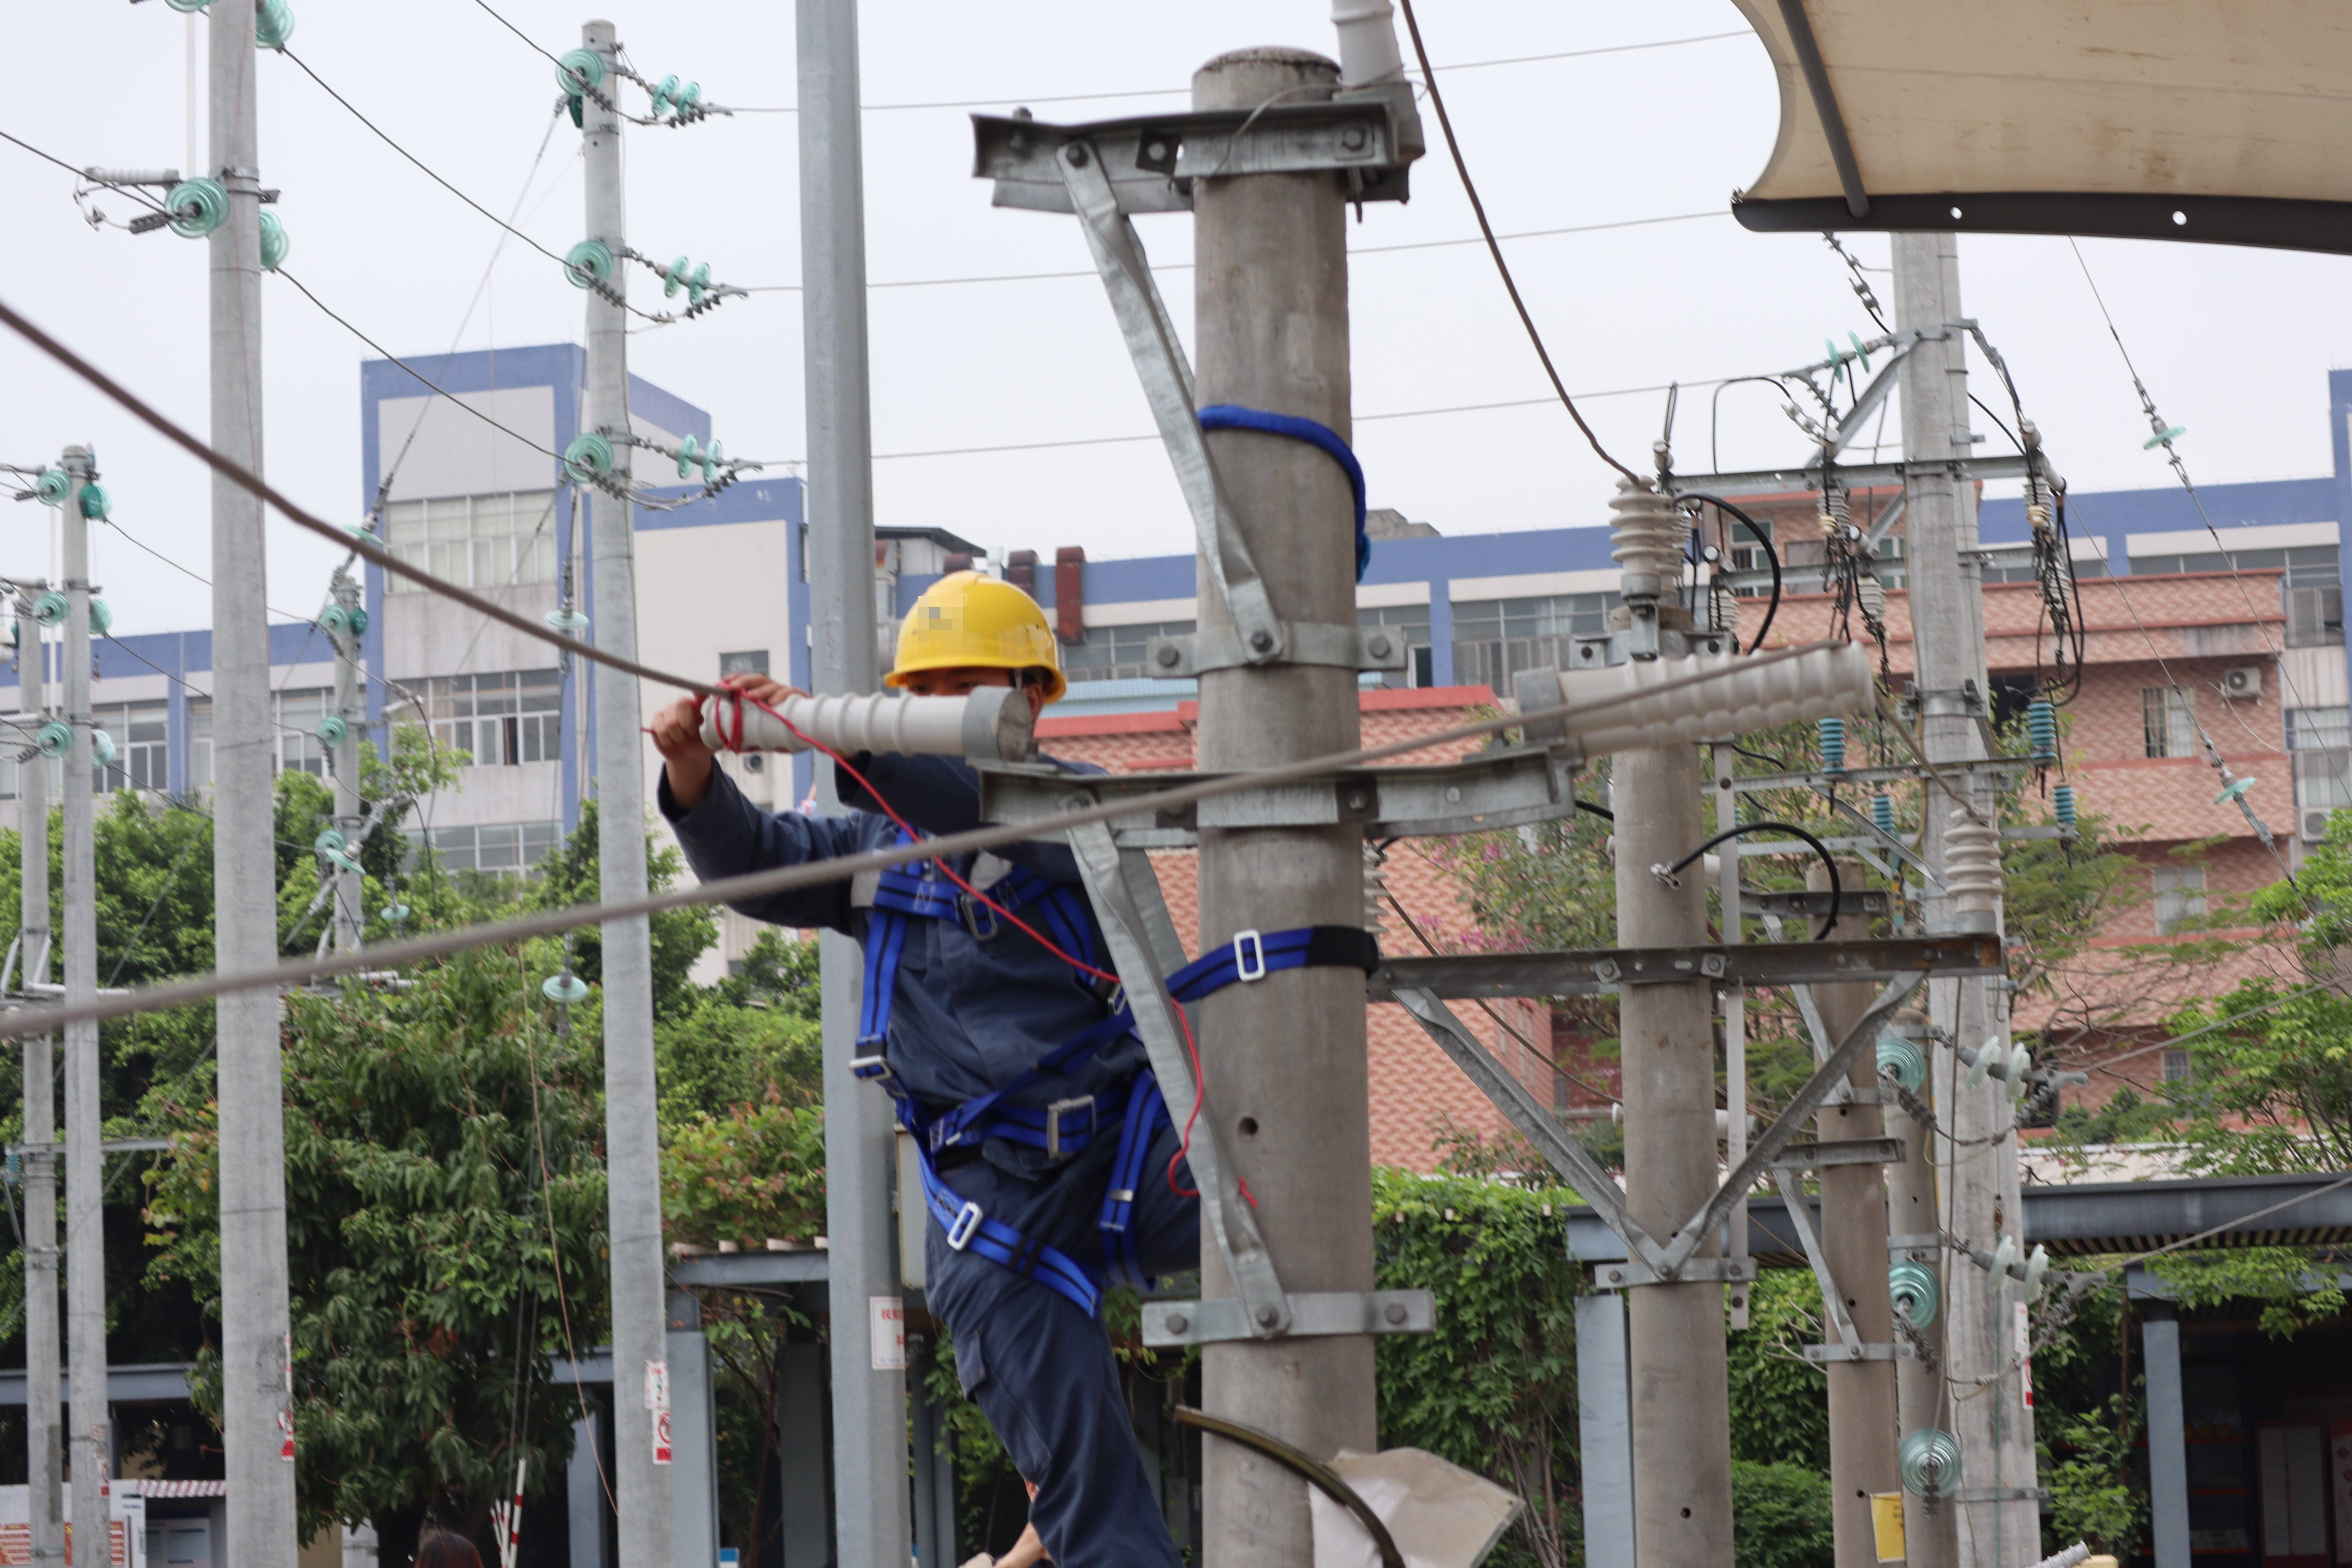downsuit: (910, 1160, 1186, 1561)
upsuit: (668, 758, 1186, 1136)
